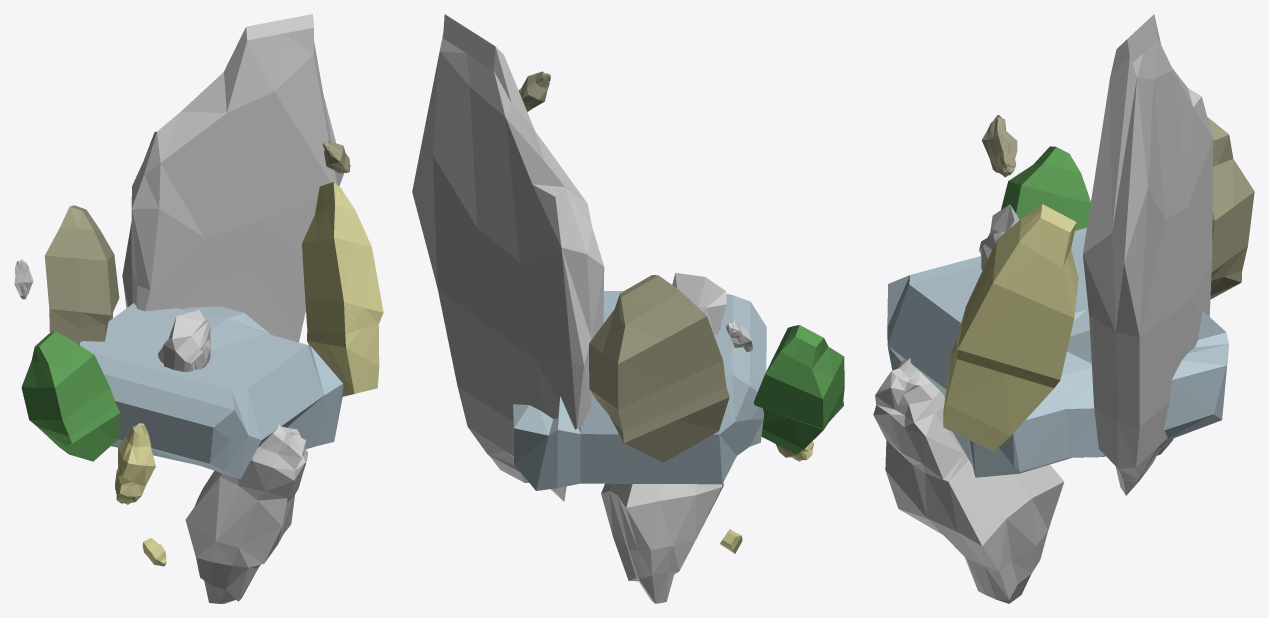
Rendered from biome.dae.
The picture shows the model from 3 angles, left to right: view 1: azimuth 30°, elevation 25°; view 2: azimuth 150°, elevation 25°; view 3: azimuth 270°, elevation 25°; orthographic projection. The views are drawn at different scales.
Visible parts, largest first — view 1: Blocks_A, Aquatic, Blocks_C, Blocks_D, Blocks_B, Center_piece; view 2: Blocks_A, Blocks_B, Aquatic, Blocks_D, Center_piece, Blocks_C; view 3: Blocks_A, Aquatic, Blocks_C, Blocks_B, Blocks_D, Center_piece.
Boxes of the visible parts, left/top/right/bottom form: Blocks_A: left=14, top=14, right=343, bottom=603; Aquatic: left=79, top=303, right=343, bottom=479; Blocks_C: left=115, top=182, right=383, bottom=566; Blocks_D: left=21, top=331, right=120, bottom=461; Blocks_B: left=44, top=141, right=350, bottom=344; Center_piece: left=158, top=310, right=210, bottom=371; Blocks_A: left=412, top=14, right=752, bottom=603; Blocks_B: left=519, top=71, right=729, bottom=462; Aquatic: left=513, top=291, right=766, bottom=490; Blocks_D: left=753, top=325, right=844, bottom=454; Center_piece: left=672, top=273, right=726, bottom=334; Blocks_C: left=720, top=441, right=814, bottom=553; Blocks_A: left=873, top=14, right=1213, bottom=603; Aquatic: left=887, top=227, right=1228, bottom=477; Blocks_C: left=943, top=204, right=1078, bottom=451; Blocks_B: left=981, top=115, right=1254, bottom=299; Blocks_D: left=1001, top=146, right=1090, bottom=230; Center_piece: left=979, top=204, right=1019, bottom=270.
Bounding box in the file's own units: 11.01 × 8.54 × 15.99.
